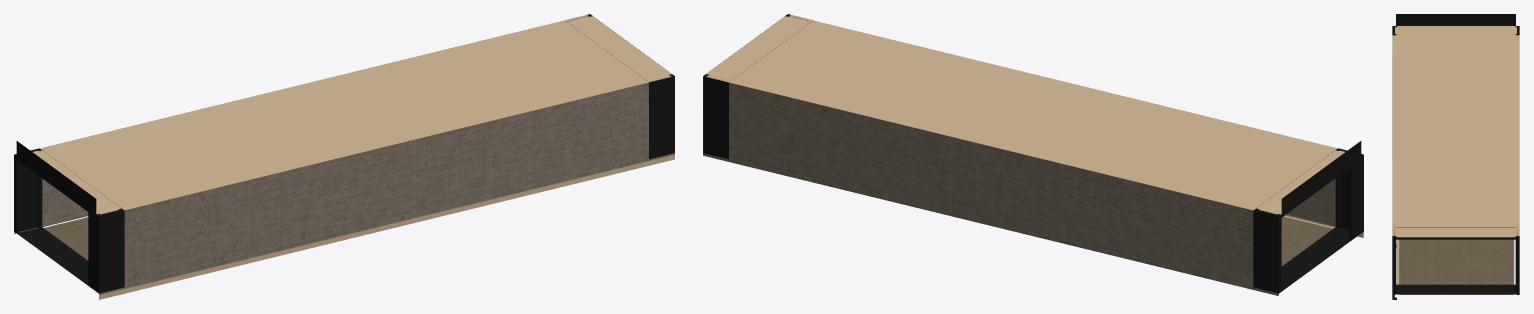
Rendered from corner.fbx.
3 renders of one model, left to right at view 1: azimuth 30°, elevation 25°; view 2: azimuth 150°, elevation 25°; view 3: azimuth 270°, elevation 25°, orthographic. The views are drawn at different scales.
Parts seen in each view (by area): view 1: corner; view 2: corner; view 3: corner.
Boxes of the visible parts, x1,y1,x2,y2 form: corner: (14, 14, 674, 299); corner: (703, 14, 1363, 295); corner: (1392, 14, 1519, 299).
Size of the model in its own units: 4484 by 739 by 1144.
1 material, 1 textured.
